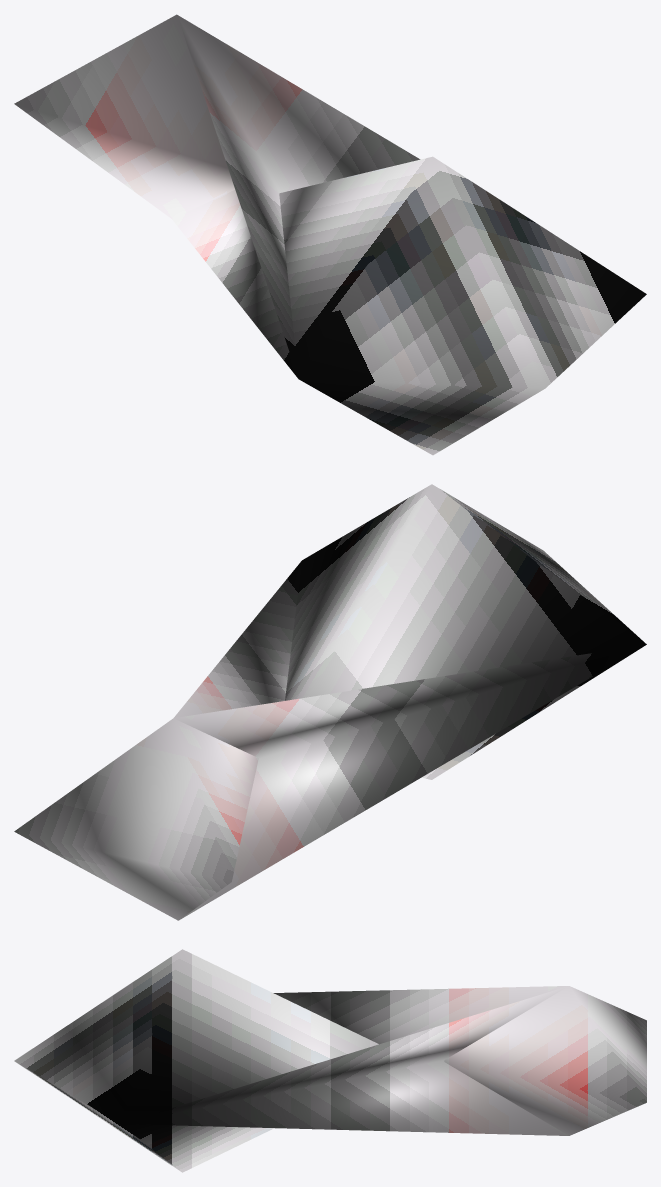
3 renders of one model, top to bottom at view 1: azimuth 30°, elevation 25°; view 2: azimuth 150°, elevation 25°; view 3: azimuth 270°, elevation 25°, orthographic. The views are drawn at different scales.
Parts seen in each view (by area): view 1: 295e80ff; view 2: 295e80ff; view 3: 295e80ff.
Part boxes in pixels (box(x1,y1,x2,y2)): 295e80ff: box(14, 14, 646, 455); 295e80ff: box(14, 484, 646, 920); 295e80ff: box(14, 949, 646, 1172).
Size of the model in its own units: 3.82 by 3.13 by 8.03.
1 material, 1 textured.
